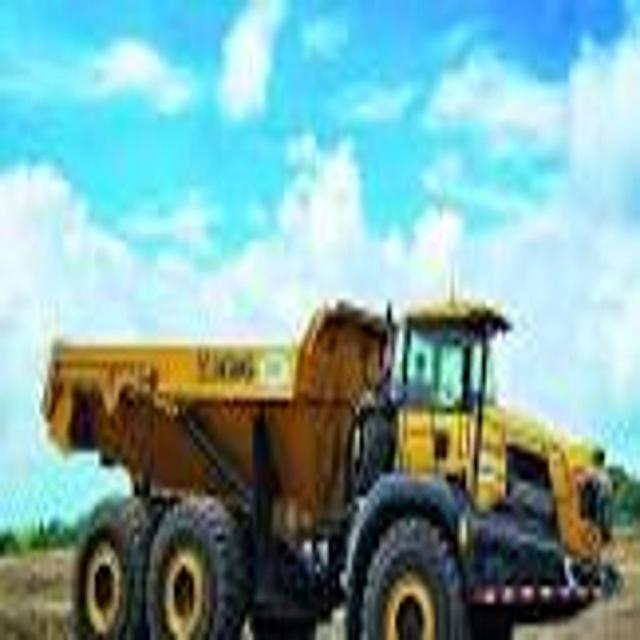dump_truck: (37, 281, 624, 640)
